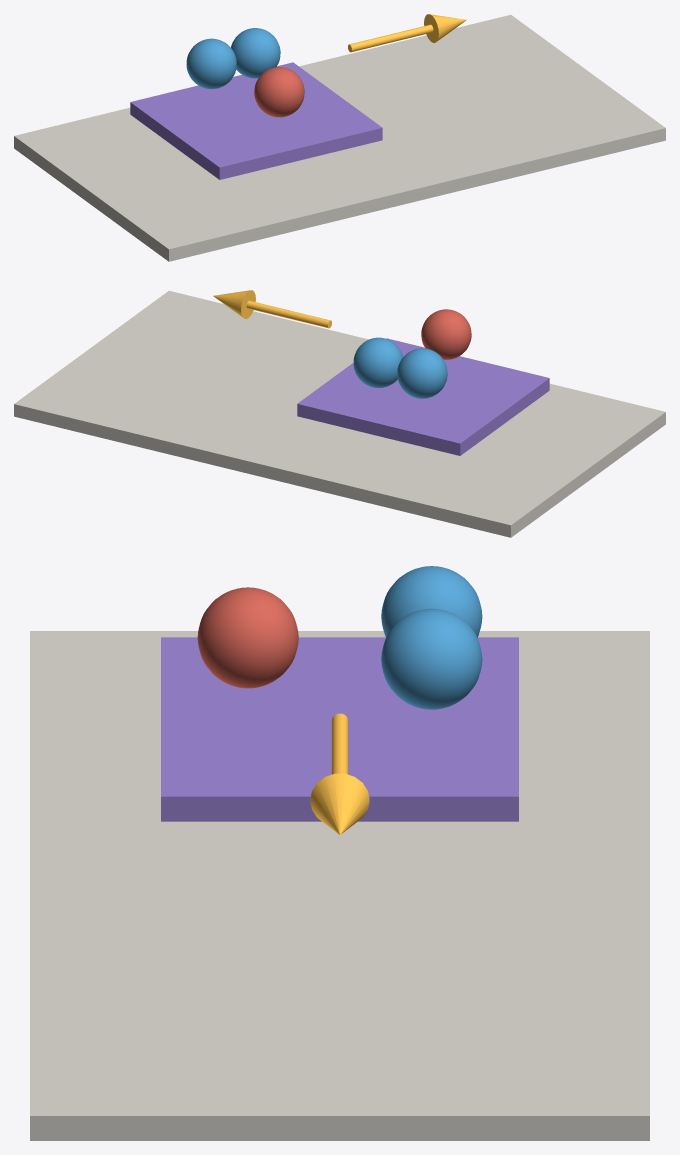
Rendered from chem-reaction-reactant.glb.
3 renders of one model, top to bottom at view 1: azimuth 30°, elevation 25°; view 2: azimuth 150°, elevation 25°; view 3: azimuth 270°, elevation 25°, orthographic. The views are drawn at different scales.
Parts seen in each view (by area): view 1: reaction-base, reactant-side-marker, atom-1 (×2), atom-2, reaction-start-arrow-shaft, reaction-start-arrow-head; view 2: reaction-base, reactant-side-marker, atom-1 (×2), atom-2, reaction-start-arrow-shaft, reaction-start-arrow-head; view 3: reaction-base, reactant-side-marker, atom-1 (×2), atom-2, reaction-start-arrow-head, reaction-start-arrow-shaft.
Part boxes in pixels (x1,y1,x2,y2): reaction-base: [14, 14, 665, 261]; reactant-side-marker: [130, 62, 382, 179]; atom-1 (×2): [186, 38, 304, 117]; atom-2: [231, 28, 280, 78]; reaction-start-arrow-shaft: [348, 24, 433, 52]; reaction-start-arrow-head: [424, 14, 466, 42]; reaction-base: [14, 290, 665, 537]; reactant-side-marker: [297, 338, 549, 455]; atom-1 (×2): [397, 309, 471, 398]; atom-2: [353, 337, 402, 387]; reaction-start-arrow-shaft: [246, 300, 331, 328]; reaction-start-arrow-head: [213, 290, 255, 318]; reaction-base: [30, 631, 649, 1140]; reactant-side-marker: [161, 637, 518, 821]; atom-1 (×2): [197, 566, 482, 688]; atom-2: [381, 608, 482, 709]; reaction-start-arrow-head: [310, 773, 369, 834]; reaction-start-arrow-shaft: [331, 713, 348, 774].
Size of what is drawn, in the model's own units: 2.5 by 0.54 by 1.35.
